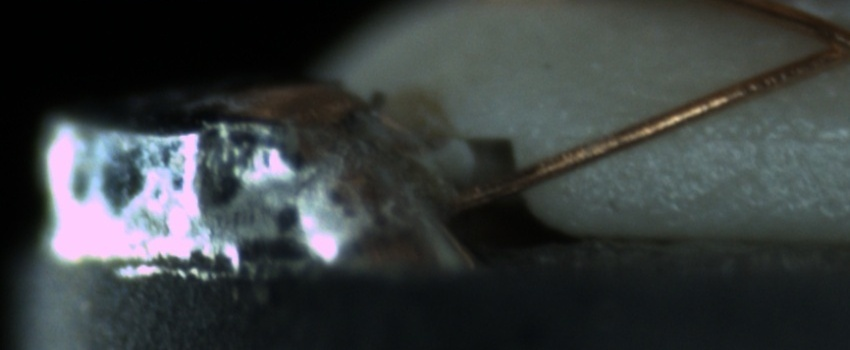CL: (797, 14, 850, 74)
DL: (672, 107, 848, 168)
